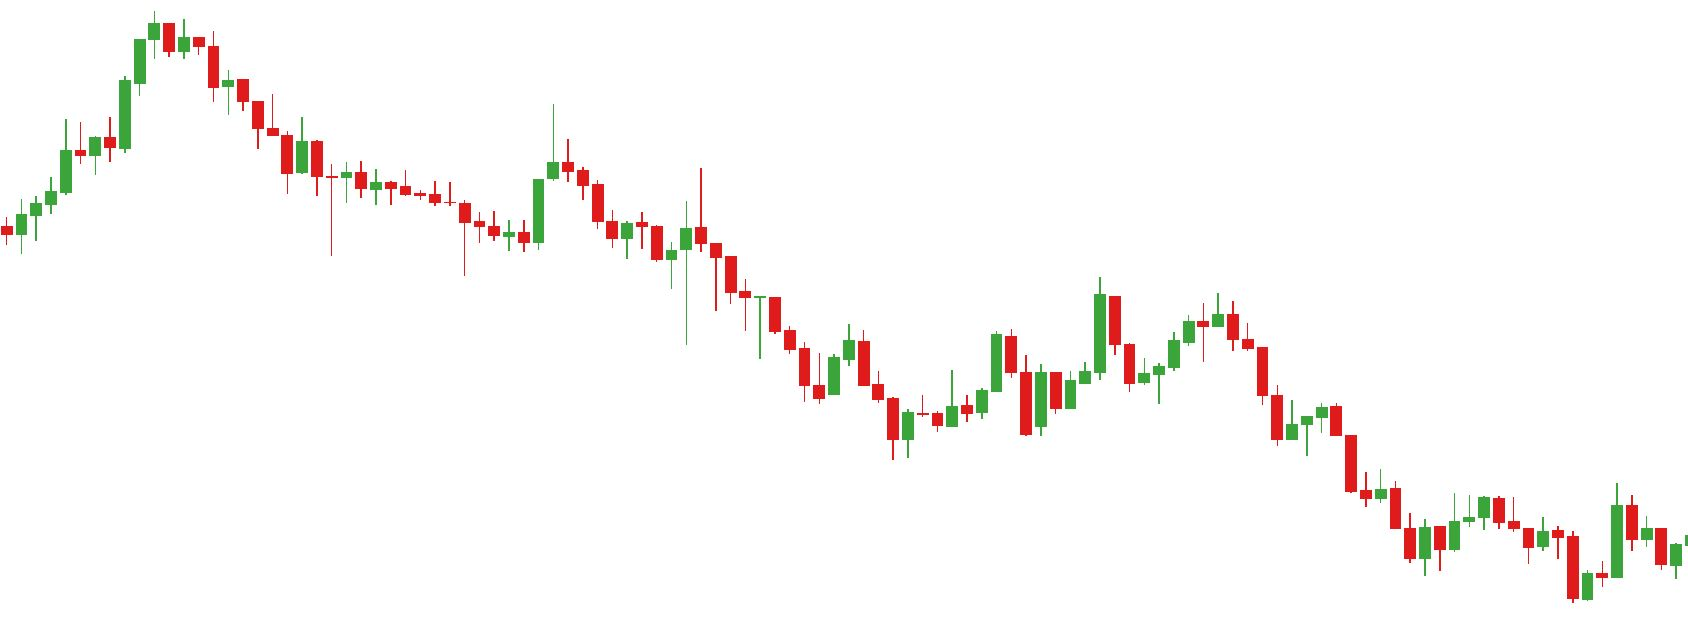sell: (1444, 480, 1638, 563)
